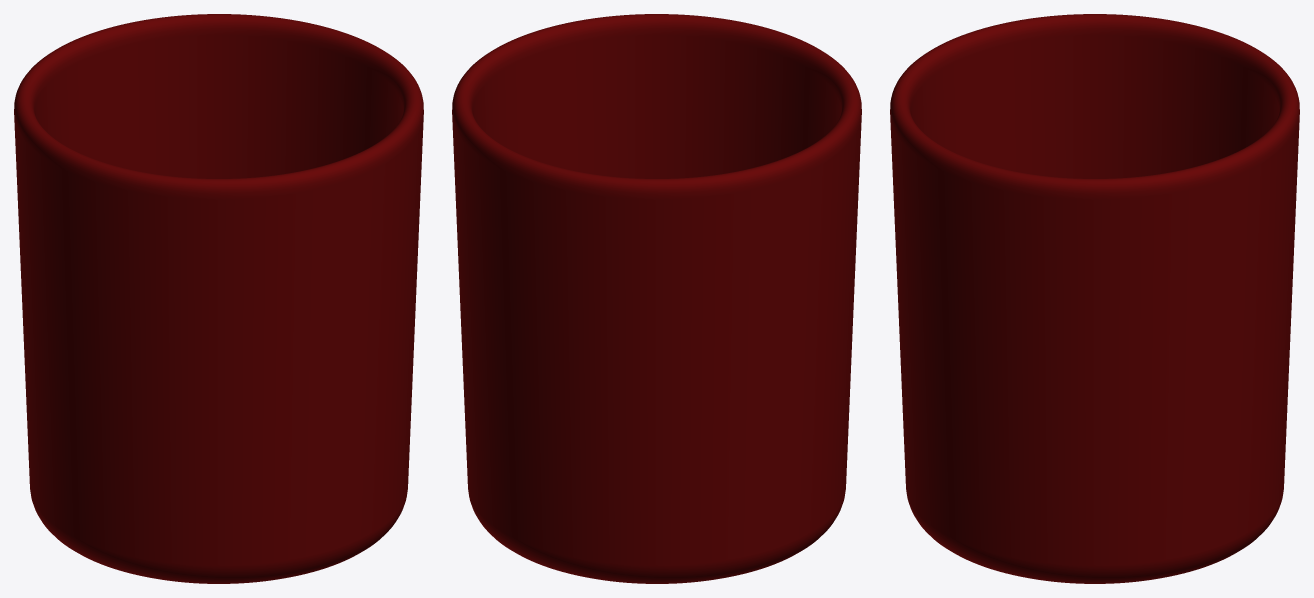
File: hepe40.glb
3 renders of one model, left to right at view 1: azimuth 30°, elevation 25°; view 2: azimuth 150°, elevation 25°; view 3: azimuth 270°, elevation 25°, orthographic.
Size of the model in its own units: 0.06 by 0.0676 by 0.06.
